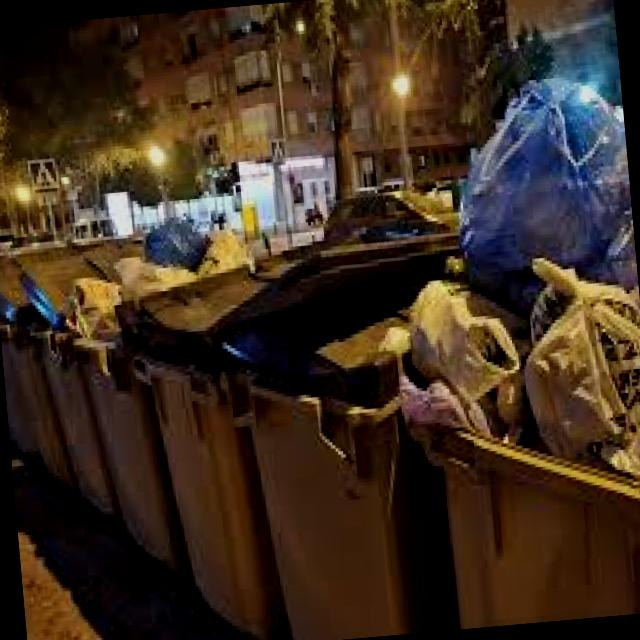garbage: (0, 63, 640, 541)
